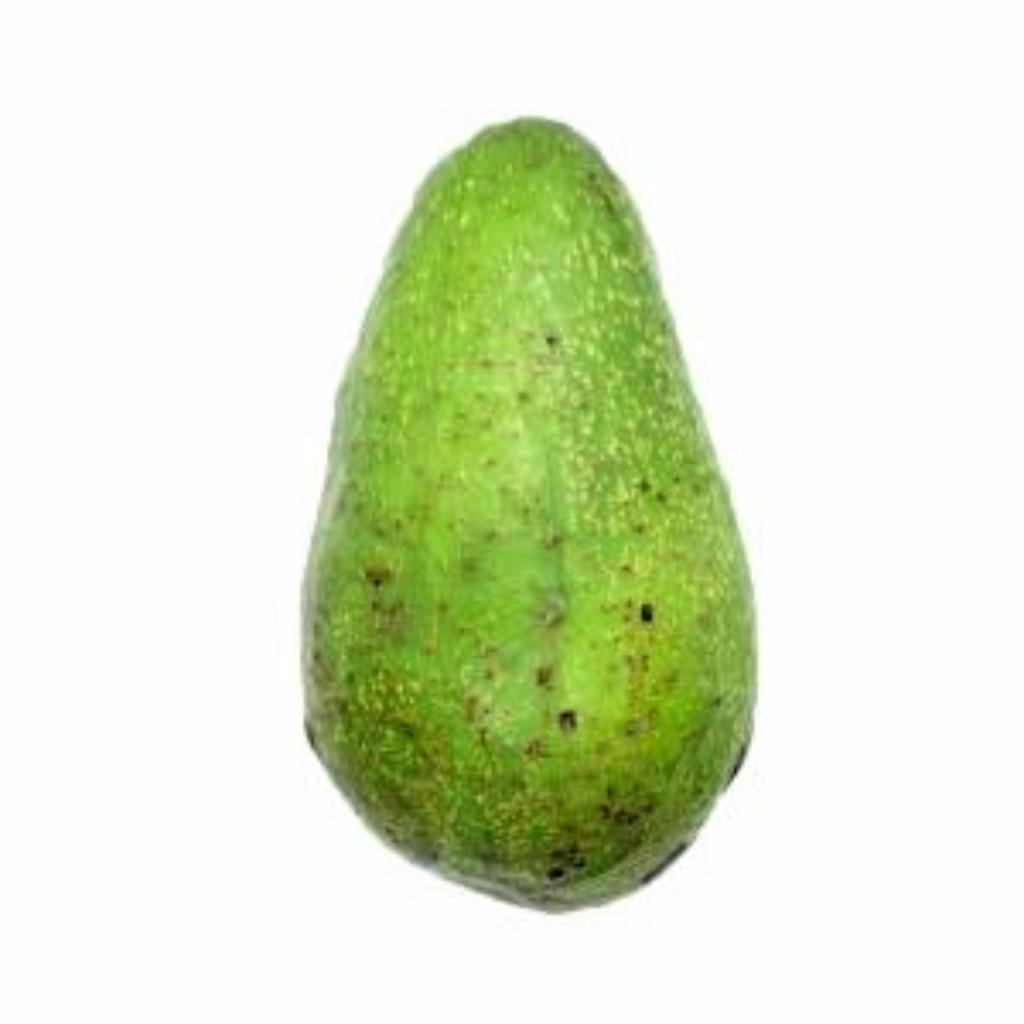cercospora_spot: (281, 92, 807, 914)
